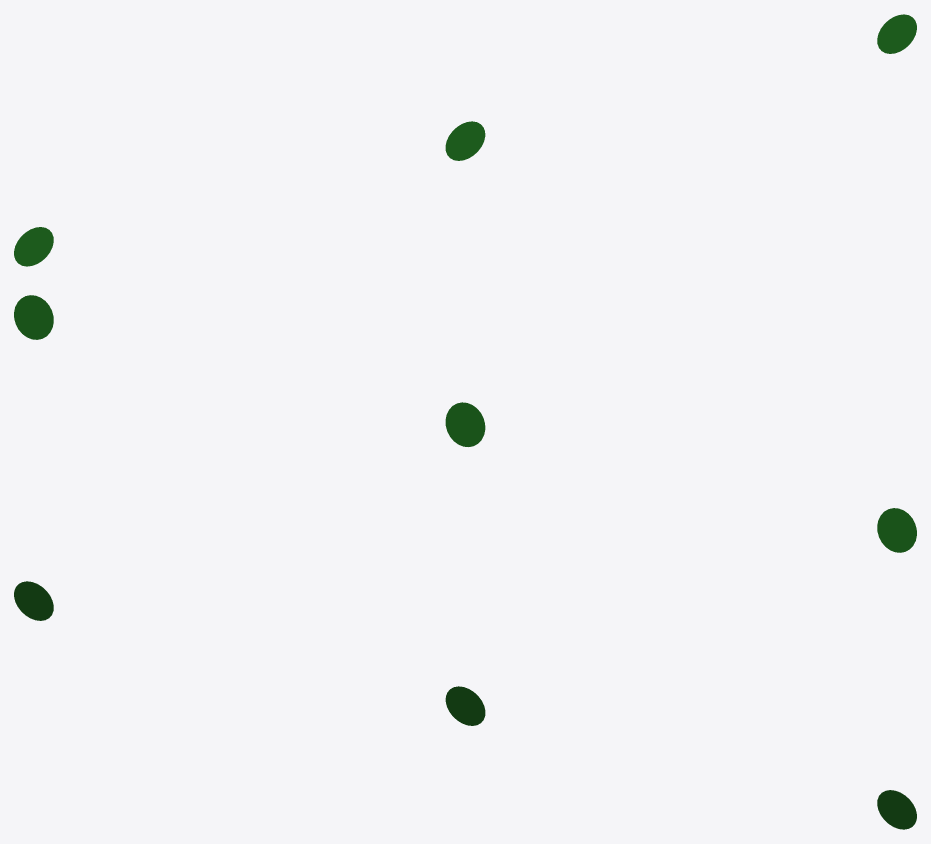
Rendered from zatana_terra_base_vis_71.dae.
3 renders of one model, top to bottom at view 1: azimuth 30°, elevation 25°; view 2: azimuth 150°, elevation 25°; view 3: azimuth 330°, elevation 25°, orthographic.
Visible parts, largest first — view 1: Node_00000231837455D0; view 2: Node_00000231837455D0; view 3: Node_00000231837455D0.
Boxes of the visible parts, x1,y1,x2,y2 form: Node_00000231837455D0: (14,14,916,266); Node_00000231837455D0: (14,295,916,552); Node_00000231837455D0: (14,581,916,829).
Size of the model in its own units: 0.047 by 0.00215 by 0.000347.
